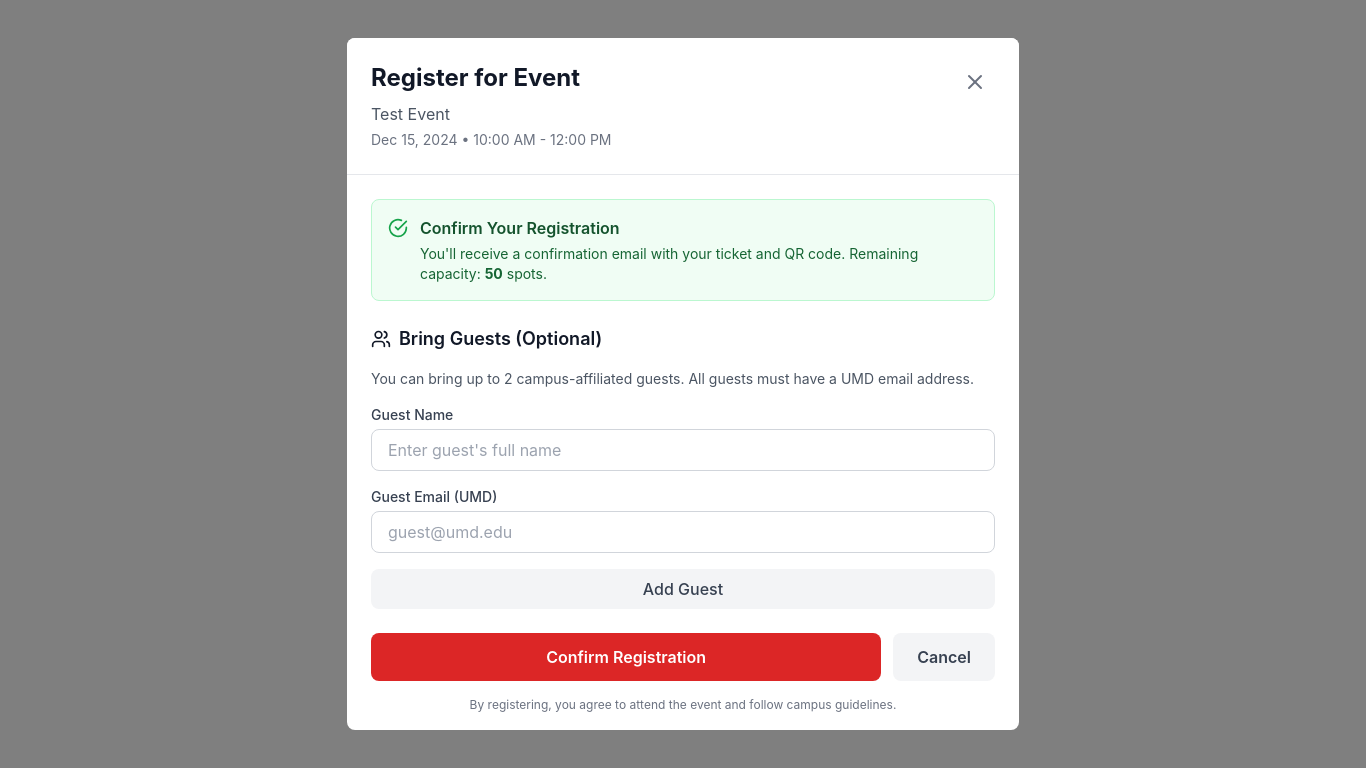
Test: RegistrationModal › validates guest name is required
The image size is (1366, 768).
Click the button "Add Guest": x=683, y=589 371,569 -> 995,609
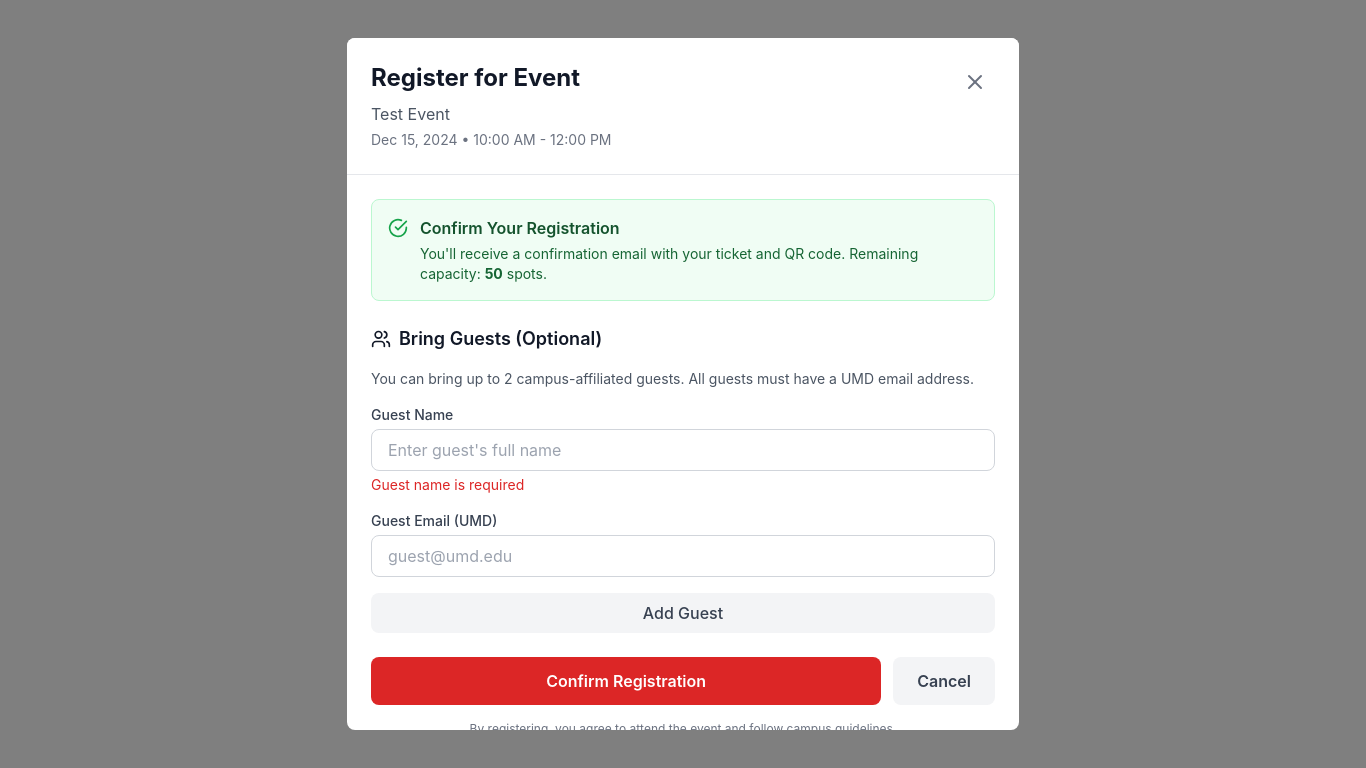
Check: the text "Guest name is required" is shown, box 371,476 -> 524,493
